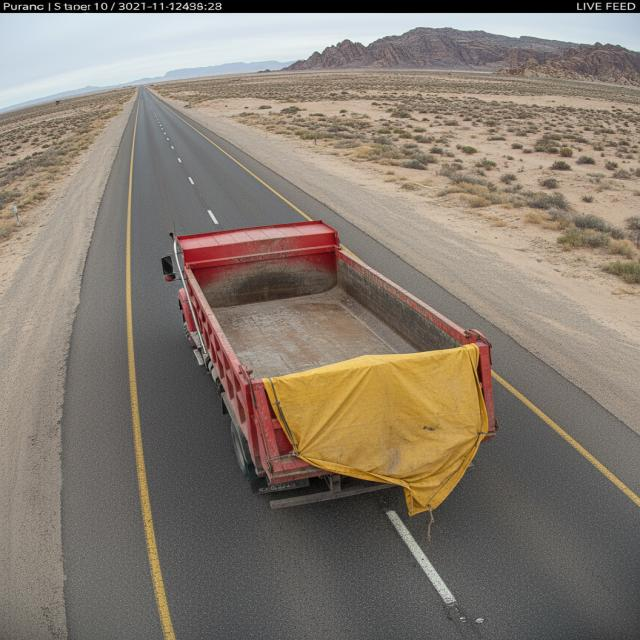Box: (178, 240, 482, 399)
Truck: (132, 215, 513, 494)
